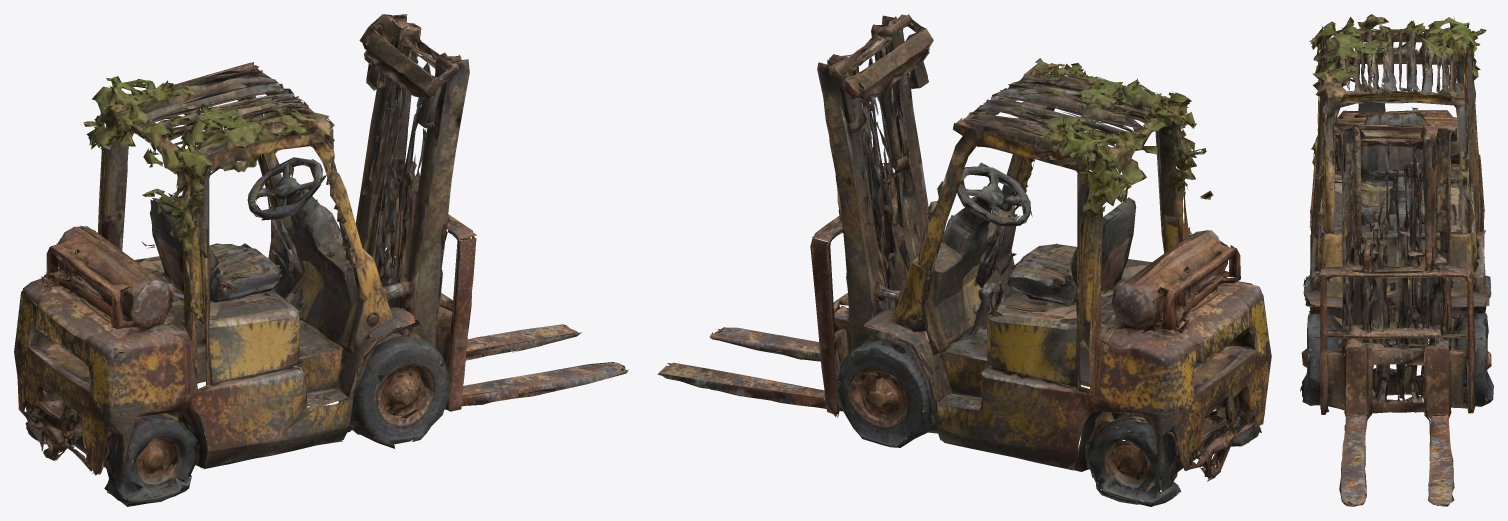
Rendered from depot_forklift.gltf.
3 views of the same model, side by side, from view 1: azimuth 30°, elevation 25°; view 2: azimuth 150°, elevation 25°; view 3: azimuth 270°, elevation 25° (orthographic). The views are drawn at different scales.
Visible parts, largest first — view 1: texture_mapping; view 2: texture_mapping; view 3: texture_mapping.
Boxes of the visible parts, <box> form: texture_mapping: <box>14,14,628,506</box>; texture_mapping: <box>657,14,1271,506</box>; texture_mapping: <box>1300,14,1493,506</box>.
Size of the model in its own units: 3.52 by 2.22 by 1.26.
Materials: 1 (1 with a texture image).
